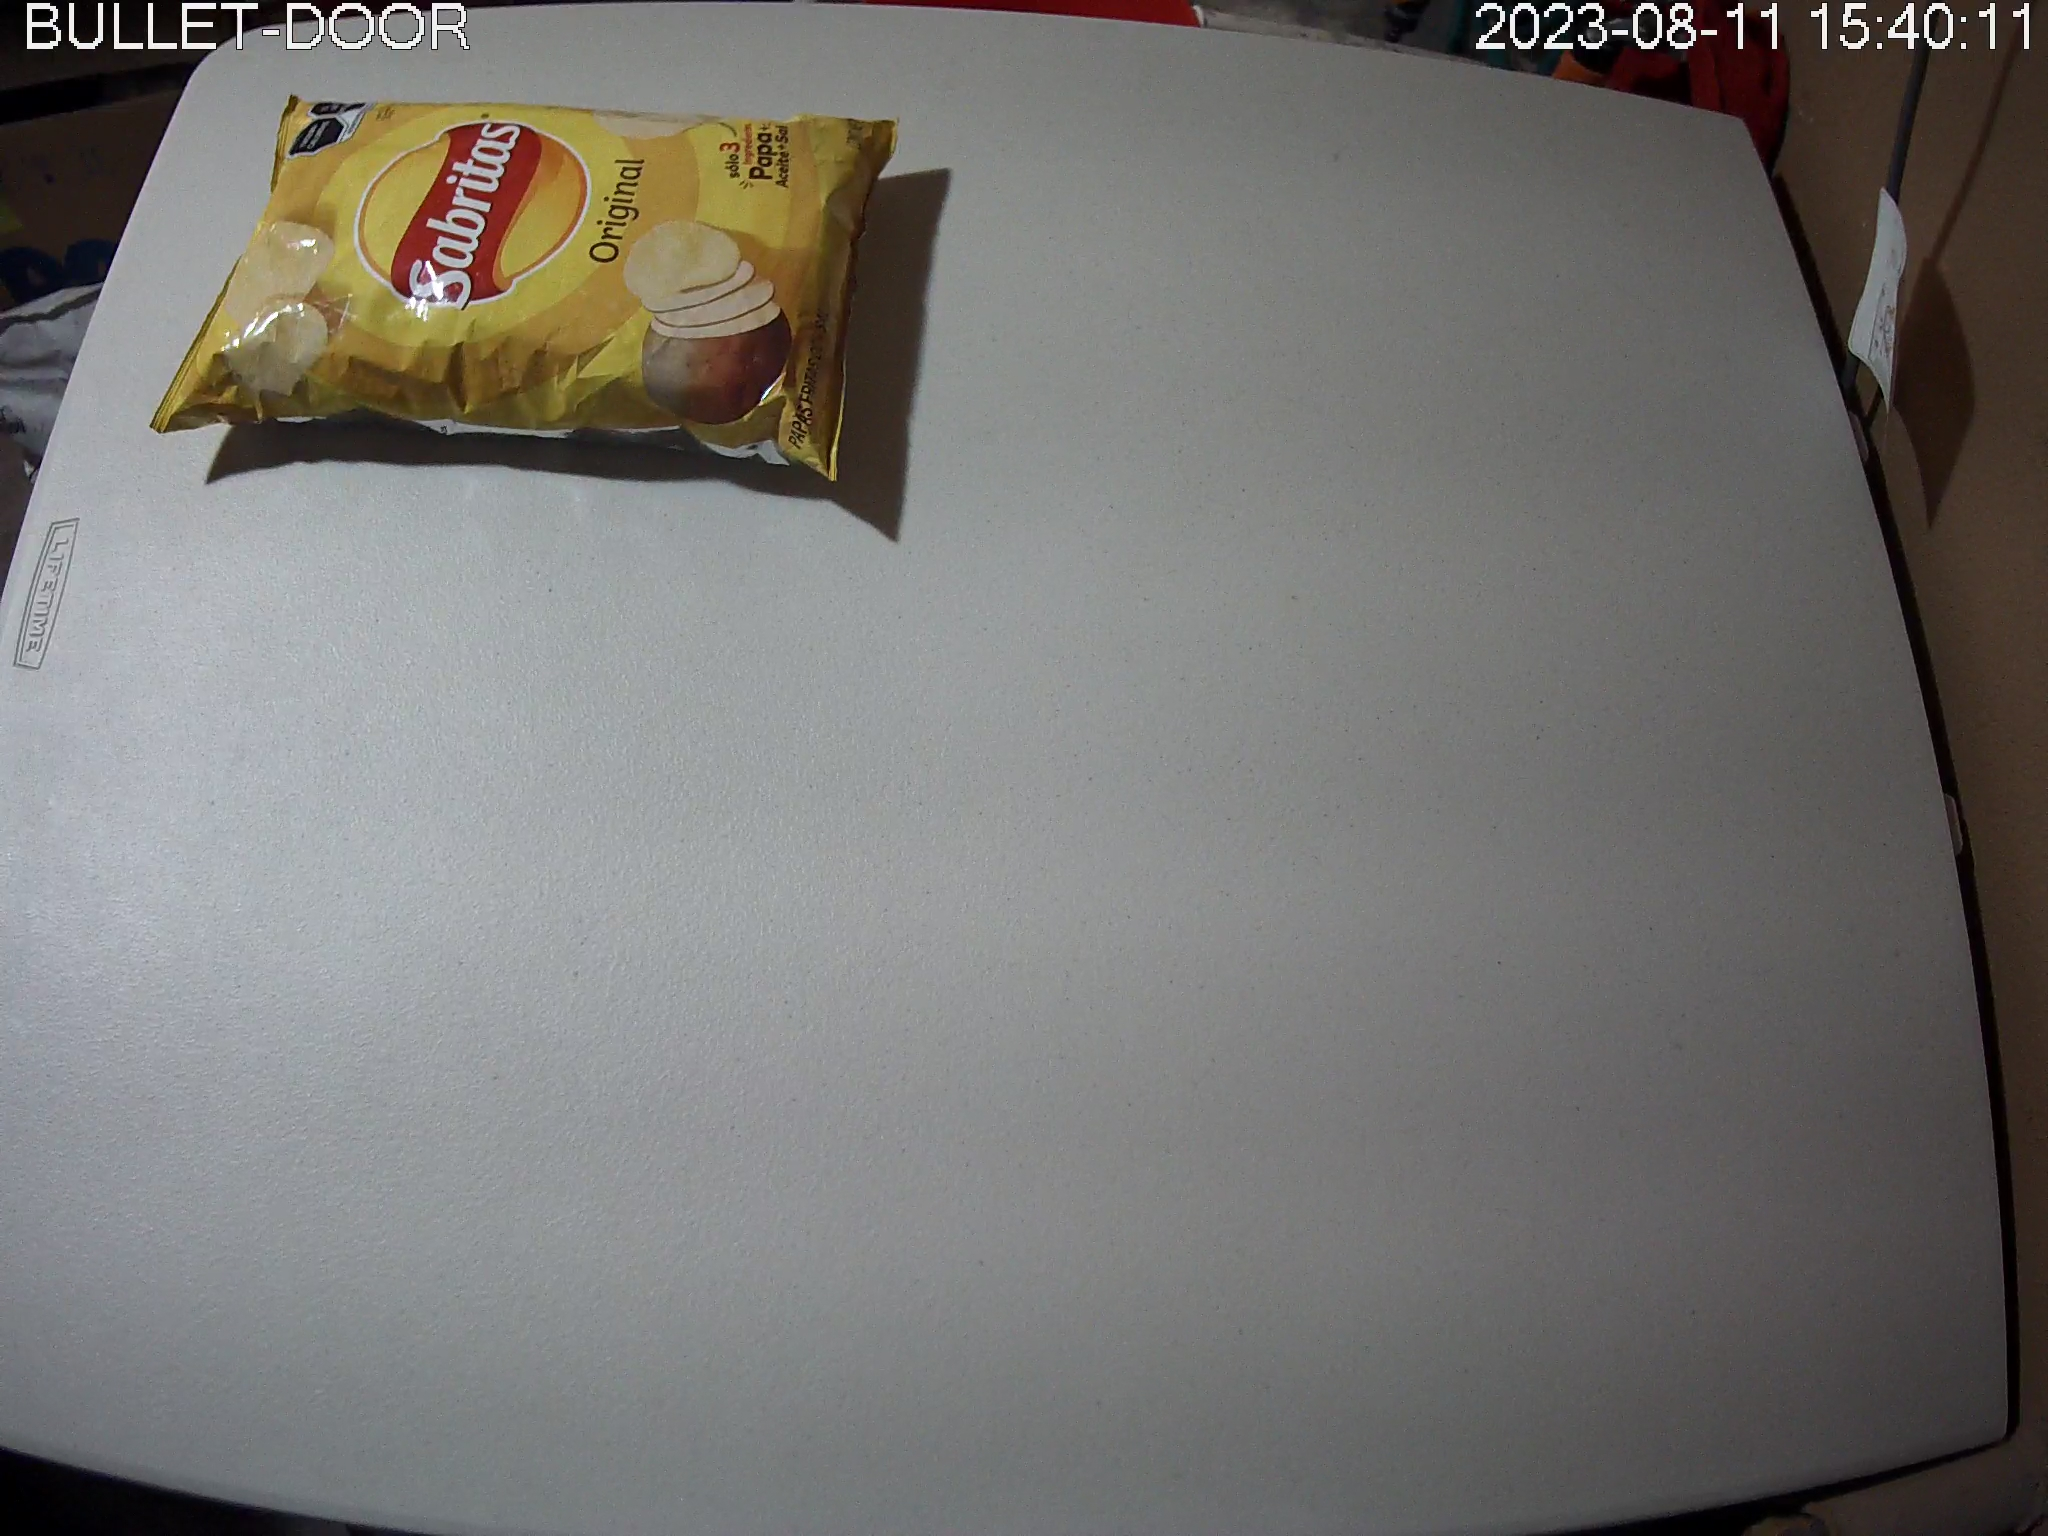Sabritas_160_F: (148, 94, 900, 486)
